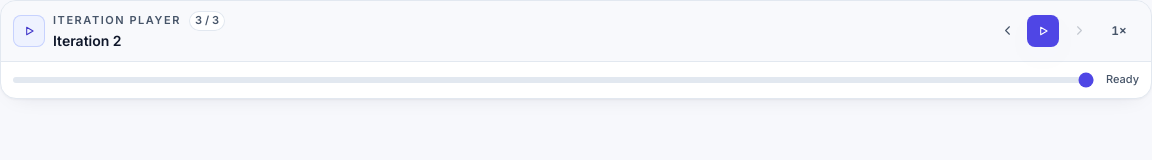
Test: IterationPlayer › restarts from the first step when play is pressed at the end
The width and height of the screenshot is (1152, 160).
Expected: the slider named "Iteration step" holds "3", [13,77,1094,83]
What coordinates should you click on to do the following:
click the button named "Play iterations"
I would click on:
 (1043, 31)
Its box is [1027,15,1059,47].
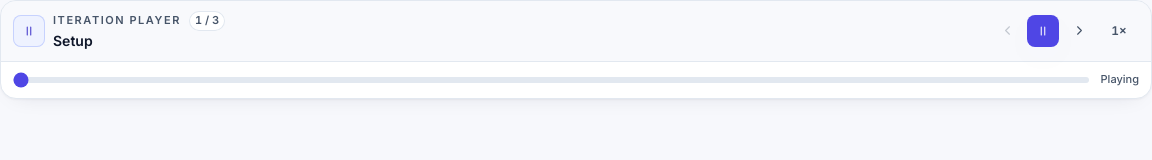
Result: the slider named "Iteration step" holds "1" at [13,77,1089,83]
Result: the button named "Pause playback" is shown at [1027,15,1059,47]
